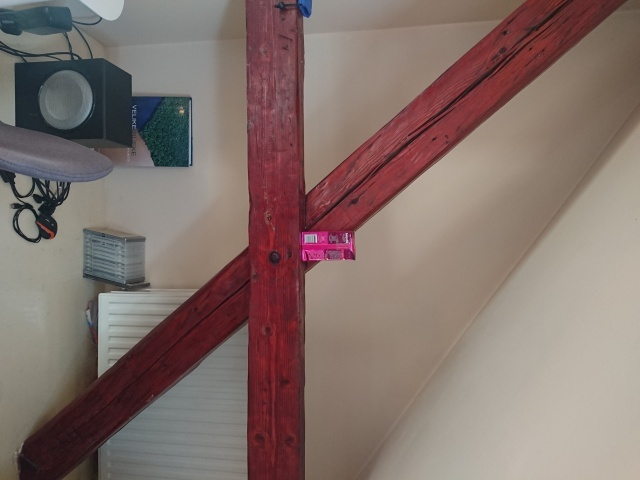Barcaffe Classic Original 225g: (299, 227, 358, 264)
